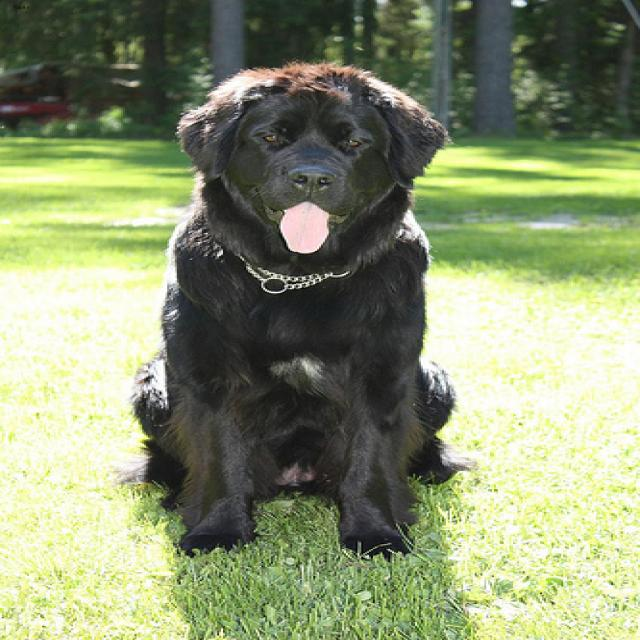dog-newfoundland: (104, 56, 482, 568)
